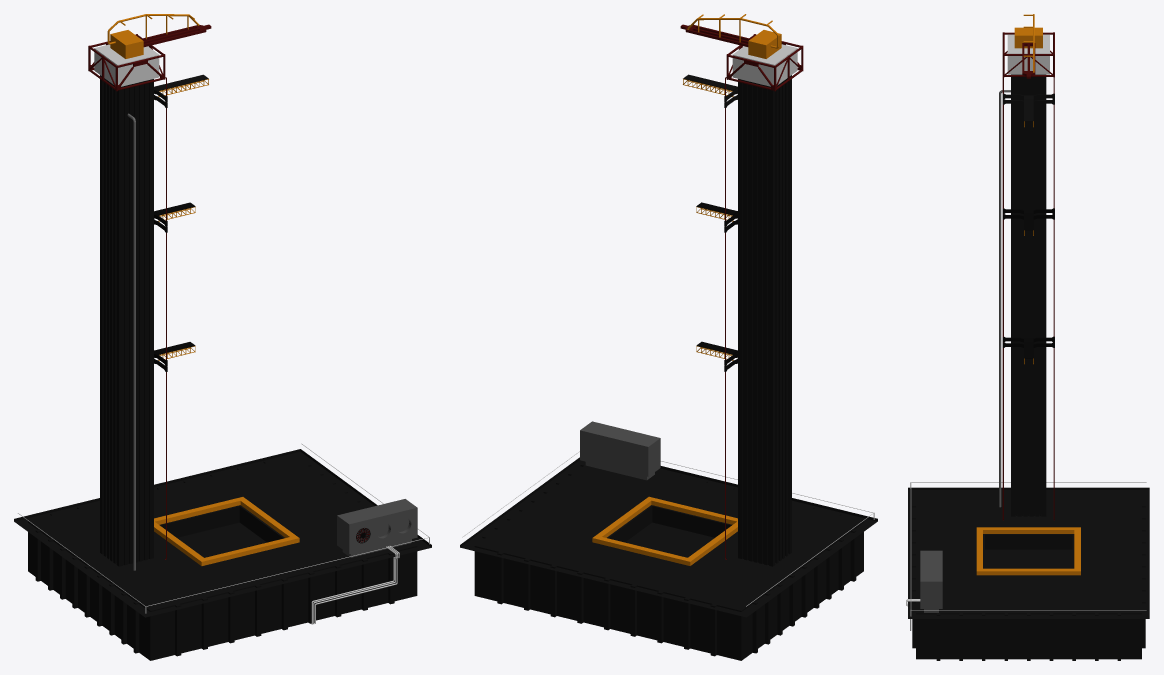
The model's file is plataforma_cohete.obj.
3 views of the same model, side by side, from view 1: azimuth 30°, elevation 25°; view 2: azimuth 150°, elevation 25°; view 3: azimuth 270°, elevation 25° (orthographic). The views are drawn at different scales.
Visible parts, largest first — view 1: plataforma_cohete; view 2: plataforma_cohete; view 3: plataforma_cohete.
Boxes of the visible parts, bbox=[...] form: plataforma_cohete: bbox=[14, 14, 431, 660]; plataforma_cohete: bbox=[460, 14, 877, 660]; plataforma_cohete: bbox=[906, 14, 1149, 660].
Bounding box in the file's own units: 24 × 46.86 × 19.16.
